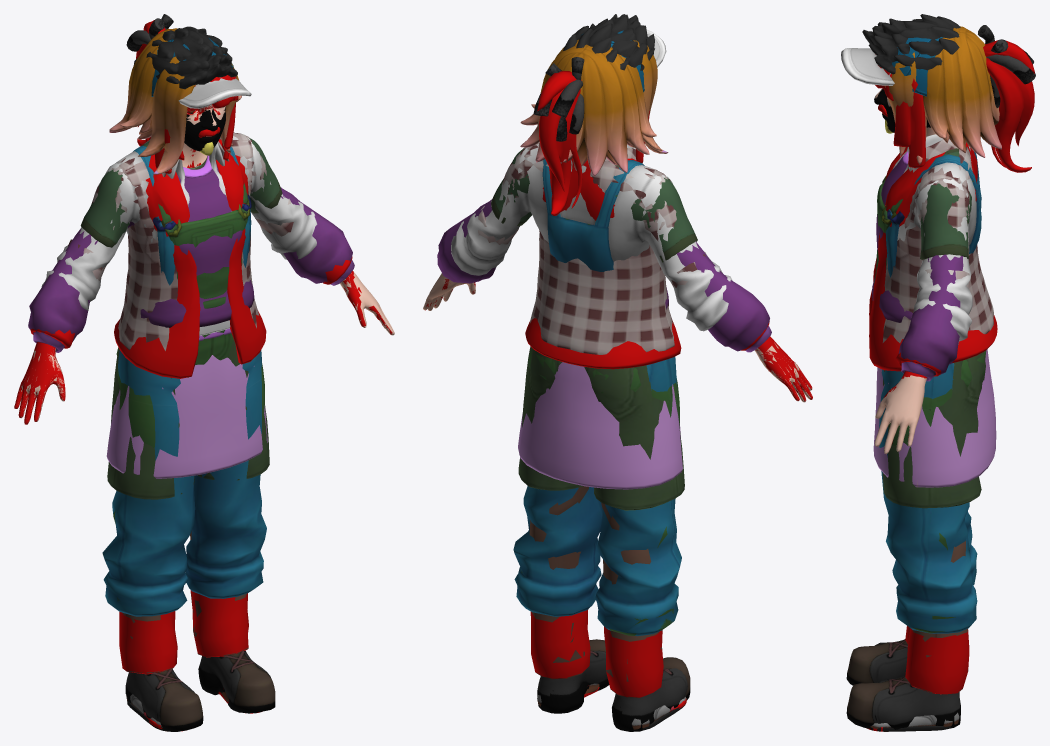
File: karakterler.fbx
The picture shows the model from 3 angles, left to right: view 1: azimuth 30°, elevation 25°; view 2: azimuth 150°, elevation 25°; view 3: azimuth 270°, elevation 25°; orthographic projection. The views are drawn at different scales.
Parts seen in each view (by area): view 1: char6, char7, char3, char5, char2, char4, char1; view 2: char6, char7, char2, char3, char4, char5, char1; view 3: char7, char6, char2, char5, char3, char4, char1.
Part boxes in pixels (x1,y1,x2,y2): char6: (17, 38, 394, 616); char7: (28, 28, 354, 731); char3: (14, 106, 361, 674); char5: (19, 14, 392, 731); char2: (19, 26, 394, 731); char4: (80, 138, 282, 499); char1: (14, 20, 392, 731); char6: (423, 30, 810, 636); char7: (437, 39, 771, 730); char2: (423, 14, 812, 729); char3: (426, 158, 812, 697); char4: (491, 147, 697, 510); char5: (425, 57, 811, 731); char1: (425, 71, 812, 711); char7: (866, 26, 1001, 731); char6: (841, 37, 981, 633); char2: (862, 14, 993, 731); char5: (846, 25, 1035, 729); char3: (869, 89, 997, 694); char4: (882, 120, 985, 508); char1: (868, 40, 1034, 731).
Size of the model in its own units: 209 by 362 by 92.91.
